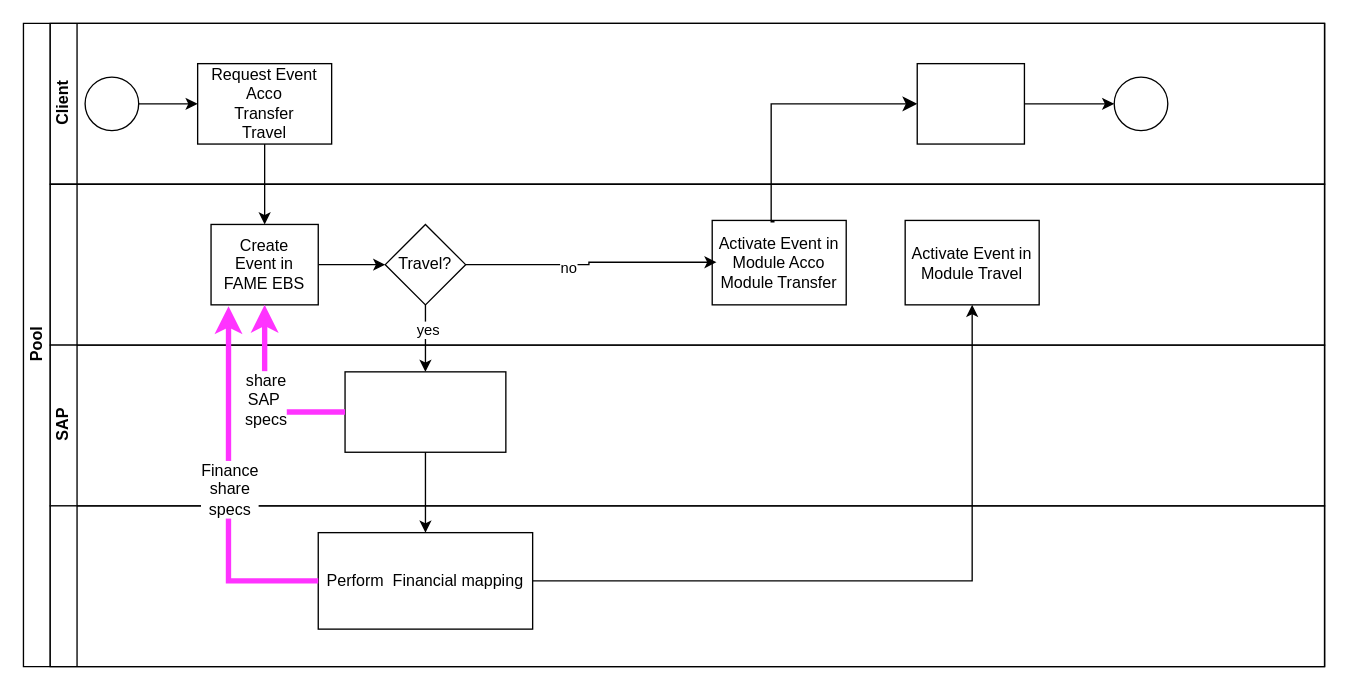
This 1348x690 diagram has some shape labels left out. The shapes that lost their labels are listed below. From the top down, each one's box as (x1, y1, x2, y2) in pixels, then its label:
(916, 62, 1024, 144): Business configures Modules
(49, 183, 1325, 345): Event Services Support Team
(344, 371, 506, 452): Create Event in SAP
(49, 505, 1325, 667): Finance
